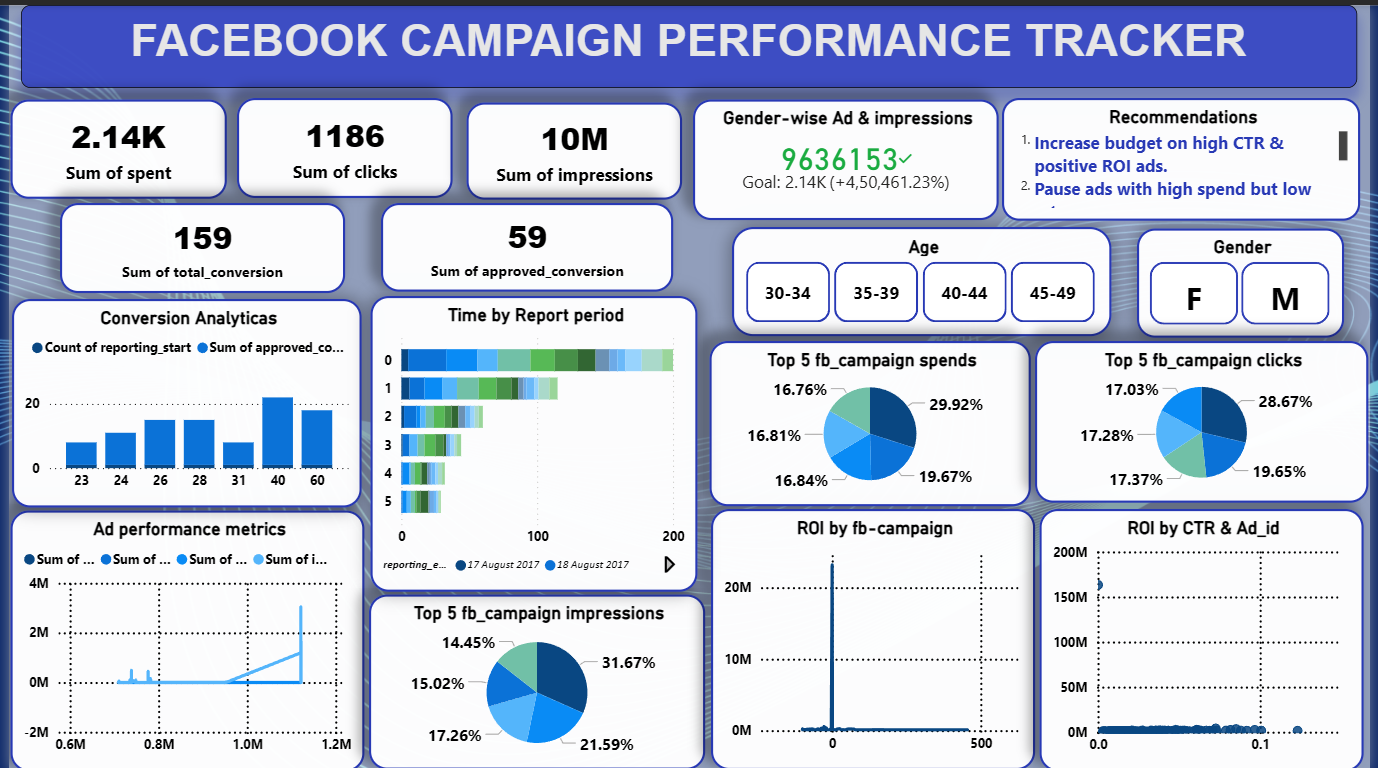

The dashboard page shown, as its layout file describes it:
{"tool":"powerbi","page":{"name":"Page 1","canvas":[1280,720],"ordinal":0},"visuals":[{"type":"textbox","box":[11.2,0,1255.8,78.3],"z":0},{"type":"lineChart","title":"Ad performance metrics","fields":{"Category":["cleaned_data.ad_id"],"Y":["Sum(cleaned_data.ROI)","Sum(cleaned_data.CTR)","Sum(cleaned_data.clicks)","Sum(cleaned_data.impressions)"]},"box":[1.4,474.7,332.7,245.3],"z":1000},{"type":"pieChart","title":"Top 5 fb_campaign impressions","fields":{"Y":["Sum(cleaned_data.impressions)"],"Category":["cleaned_data.fb_campaign_id"]},"box":[338.4,554.1,315.8,165],"z":2000},{"type":"lineChart","title":"ROI by fb-campaign ","fields":{"Category":["cleaned_data.ROI"],"Y":["Sum(cleaned_data.fb_campaign_id)"]},"box":[659.9,473.7,304.5,245.3],"z":3000},{"type":"scatterChart","title":"ROI by CTR & Ad_id","fields":{"Category":["cleaned_data.ROI"],"Y":["Sum(cleaned_data.ad_id)"],"X":["Sum(cleaned_data.CTR)"]},"box":[968.6,473.3,304.5,246.7],"z":4000},{"type":"advancedSlicerVisual","title":"Gender","fields":{"Values":["cleaned_data.gender"]},"box":[1060.3,210.1,194.6,102.9],"z":5000},{"type":"advancedSlicerVisual","title":"Age","fields":{"Values":["cleaned_data.age"]},"box":[679.4,208.7,356.7,102.9],"z":6000},{"type":"lineStackedColumnComboChart","title":"Conversion Analyticas","fields":{"Y":["CountNonNull(cleaned_data.reporting_start)","Sum(cleaned_data.approved_conversion)"],"Category":["cleaned_data.total_conversion"]},"box":[2.8,276.4,328.5,196],"z":7000},{"type":"pieChart","title":"Top 5 fb_campaign spends","fields":{"Y":["Sum(cleaned_data.spent)"],"Category":["cleaned_data.fb_campaign_id"]},"box":[658.4,315.8,301.7,155.1],"z":8000},{"type":"pieChart","title":"Top 5 fb_campaign clicks","fields":{"Y":["Sum(cleaned_data.clicks)"],"Category":["cleaned_data.fb_campaign_id"]},"box":[964.4,315.8,313,152.3],"z":9000},{"type":"barChart","title":"Time by Report period","fields":{"Y":["CountNonNull(cleaned_data.reporting_start)"],"Series":["cleaned_data.reporting_end"],"Category":["cleaned_data.clicks"]},"box":[339.8,273.5,307.4,277.8],"z":10000},{"type":"card","fields":{"Values":["Sum(cleaned_data.spent)"]},"box":[1.4,88.8,203,93.1],"z":11000},{"type":"card","fields":{"Values":["Sum(cleaned_data.clicks)"]},"box":[215,87.8,202.9,93.9],"z":12000},{"type":"card","fields":{"Values":["Sum(cleaned_data.impressions)"]},"box":[429.8,91.1,202.9,91.1],"z":13000},{"type":"kpi","title":"Gender-wise Ad & impressions ","fields":{"Indicator":["Sum(cleaned_data.impressions)"],"TrendLine":["cleaned_data.gender"],"Goal":["Sum(cleaned_data.spent)"]},"box":[642.3,89.5,287.6,113.4],"z":14000},{"type":"card","fields":{"Values":["Sum(cleaned_data.total_conversion)"]},"box":[47.9,186.1,267.9,84.6],"z":15000},{"type":"card","fields":{"Values":["Sum(cleaned_data.approved_conversion)"]},"box":[349.7,186.1,274.9,83.2],"z":16000},{"type":"textbox","title":"Recommendations","box":[933.4,87.4,337,115.6],"z":17000}]}

Visuals, with their boxes in screenshot pixels (x1, y1, x2, y2), scaled from the page's 1280x720 canvas onto the 1378x768 screenshot:
textbox: detection(12, 0, 1364, 84)
"Ad performance metrics" lineChart: detection(2, 506, 360, 767)
"Top 5 fb_campaign impressions" pieChart: detection(364, 591, 704, 767)
"ROI by fb-campaign " lineChart: detection(710, 505, 1038, 767)
"ROI by CTR & Ad_id" scatterChart: detection(1043, 505, 1371, 767)
"Gender" advancedSlicerVisual: detection(1141, 224, 1351, 334)
"Age" advancedSlicerVisual: detection(731, 223, 1115, 332)
"Conversion Analyticas" lineStackedColumnComboChart: detection(3, 295, 357, 504)
"Top 5 fb_campaign spends" pieChart: detection(709, 337, 1034, 502)
"Top 5 fb_campaign clicks" pieChart: detection(1038, 337, 1375, 499)
"Time by Report period" barChart: detection(366, 292, 697, 588)
card - Sum(cleaned_data.spent): detection(2, 95, 220, 194)
card - Sum(cleaned_data.clicks): detection(231, 94, 450, 194)
card - Sum(cleaned_data.impressions): detection(463, 97, 681, 194)
"Gender-wise Ad & impressions " kpi: detection(691, 95, 1001, 216)
card - Sum(cleaned_data.total_conversion): detection(52, 199, 340, 289)
card - Sum(cleaned_data.approved_conversion): detection(376, 199, 672, 287)
"Recommendations" textbox: detection(1005, 93, 1368, 217)
